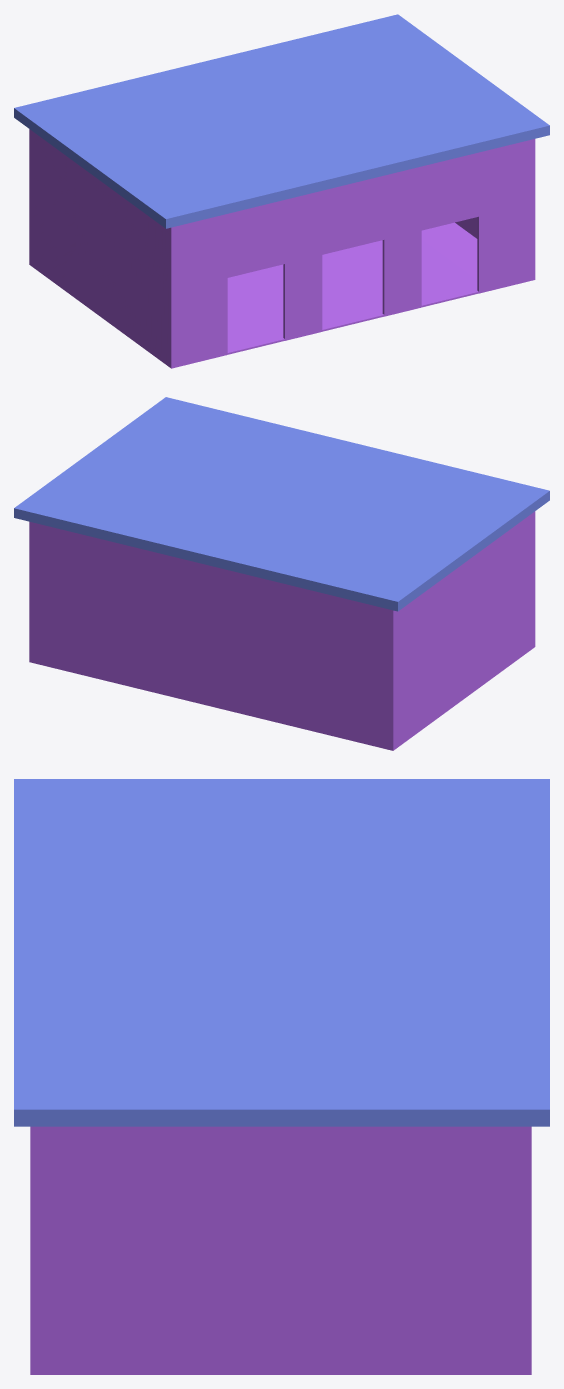
The model's file is building.fbx.
3 renders of one model, top to bottom at view 1: azimuth 30°, elevation 25°; view 2: azimuth 150°, elevation 25°; view 3: azimuth 270°, elevation 25°, orthographic. The views are drawn at different scales.
Parts seen in each view (by area): view 1: Cube, Cube.002; view 2: Cube, Cube.002; view 3: Cube.002, Cube.
Boxes of the visible parts, bbox=[...] form: Cube: bbox=[29, 129, 535, 368]; Cube.002: bbox=[14, 14, 549, 228]; Cube: bbox=[29, 511, 535, 750]; Cube.002: bbox=[14, 397, 549, 611]; Cube.002: bbox=[14, 779, 549, 1126]; Cube: bbox=[30, 1126, 531, 1374].
Bounding box in the file's own units: 5557 × 2148 × 3808.
